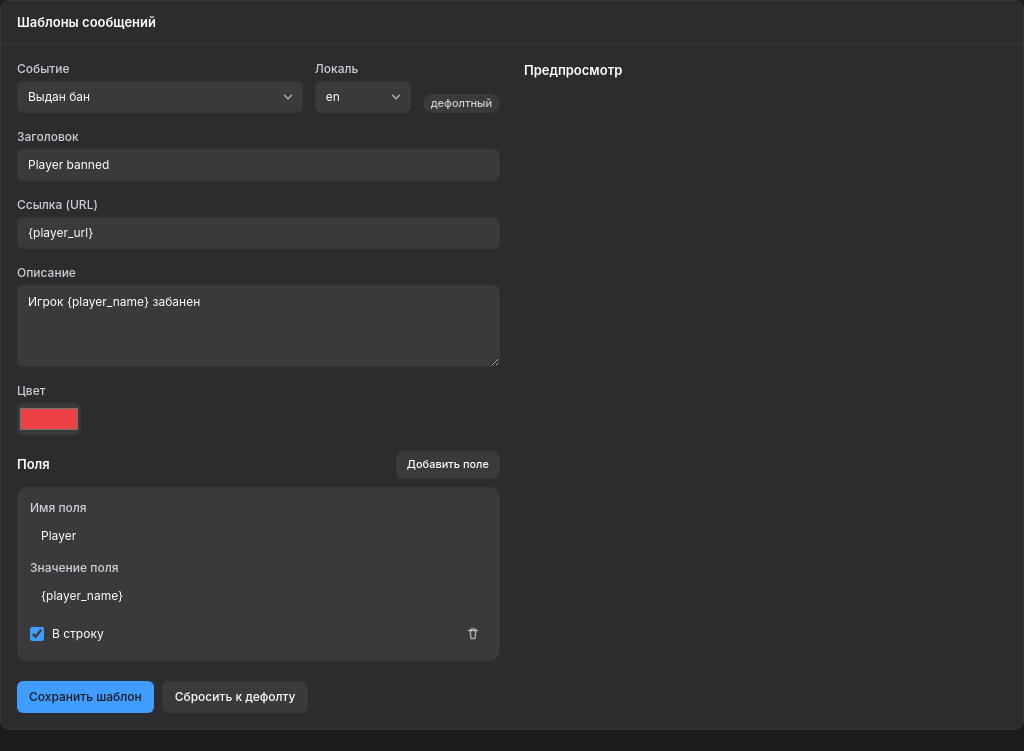
Test: DiscordTemplatesSection › shows the server error when saving fails
Expected: the field labelled "Заголовок" is shown, [17,149,500,181]
What coordinates should you click on to do the following:
click the button "Сохранить шаблон"
I would click on:
 (85, 697)
Its box is [17,681,154,713].
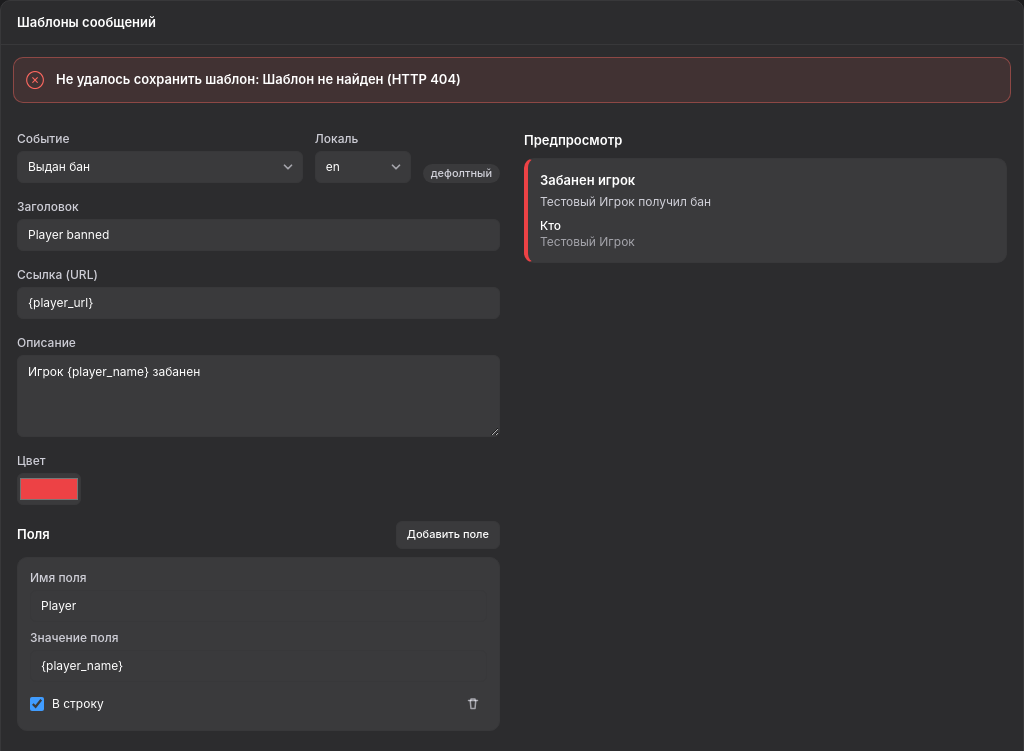
Expected: the heading "Шаблоны сообщений" is shown, [17,13,156,32]
Expected: the text "Не удалось сохранить шаблон: Шаблон не найден (HTTP 404)" is shown, [56,71,461,87]
